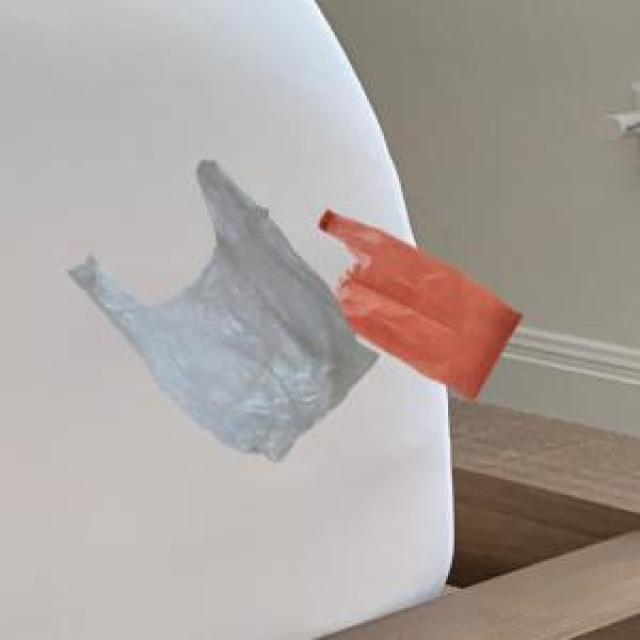plastic: (42, 134, 573, 472)
